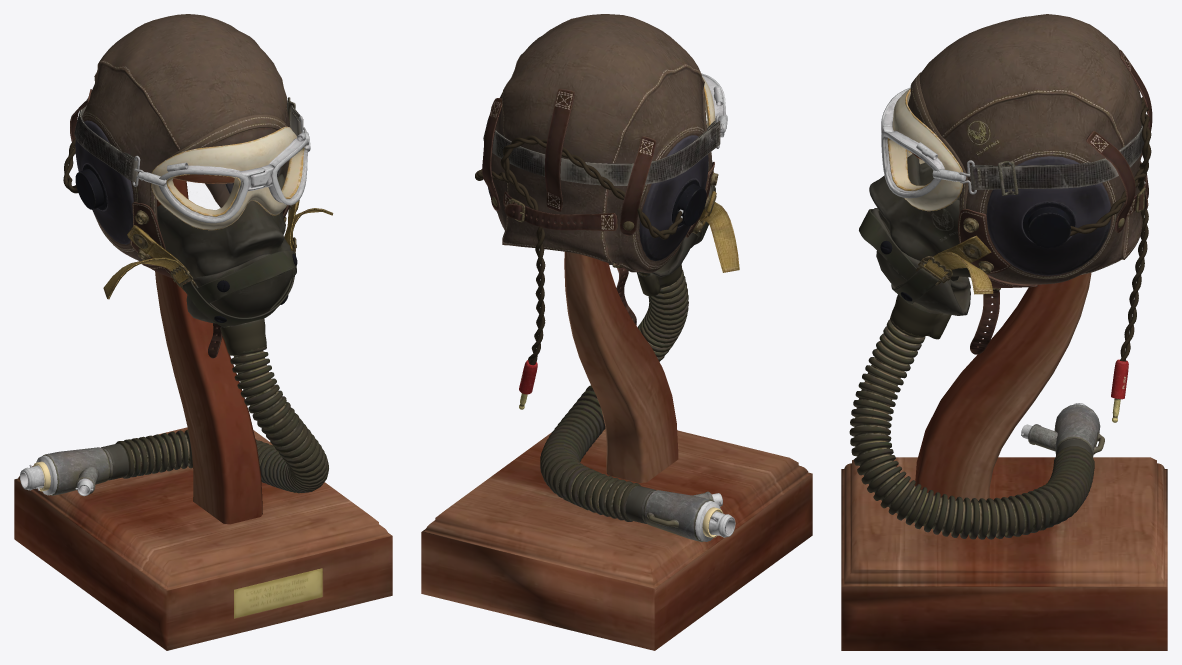
File: FlightHelmet.glb
3 renders of one model, left to right at view 1: azimuth 30°, elevation 25°; view 2: azimuth 150°, elevation 25°; view 3: azimuth 270°, elevation 25°, orthographic. The views are drawn at different scales.
Visible parts, largest first — view 1: RubberWood_low, LeatherParts_low, MetalParts_low, GlassPlastic_low, Hose_low; view 2: RubberWood_low, LeatherParts_low, Hose_low, MetalParts_low, GlassPlastic_low; view 3: RubberWood_low, LeatherParts_low, Hose_low, GlassPlastic_low, MetalParts_low.
Boxes of the visible parts, x1,y1,x2,y2 form: RubberWood_low: (14, 100, 392, 650); LeatherParts_low: (70, 14, 290, 358); MetalParts_low: (20, 97, 322, 618); GlassPlastic_low: (75, 120, 304, 244); Hose_low: (115, 346, 328, 493); RubberWood_low: (421, 114, 812, 650); LeatherParts_low: (482, 14, 714, 325); Hose_low: (540, 270, 688, 521); MetalParts_low: (492, 73, 735, 541); GlassPlastic_low: (487, 76, 715, 261); RubberWood_low: (841, 97, 1167, 650); LeatherParts_low: (908, 14, 1152, 354); Hose_low: (849, 317, 1094, 539); GlassPlastic_low: (887, 88, 1110, 275); MetalParts_low: (880, 87, 1146, 457).
Bounding box in the file's own units: 0.3666 × 0.716 × 0.3716.
Materials: 6 (6 with a texture image).
